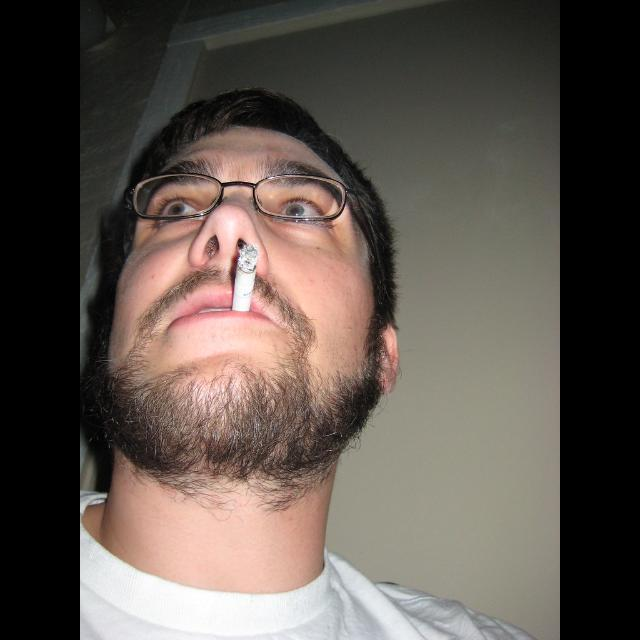rokok: (233, 244, 260, 310)
